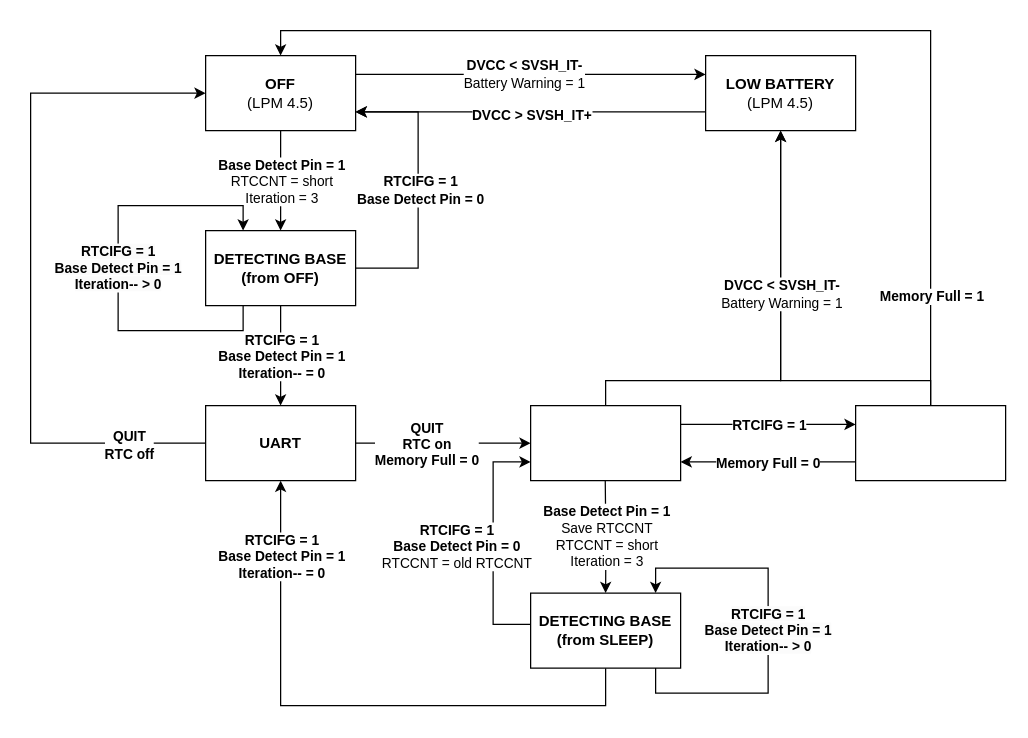
This 1028x738 diagram has some shape labels left out. The centre of each missing label's shape, as x and y in pixels:
"SENSING TEMPERATURE & CONDUCTIVITY" belongs at pixel 930 442.
"SLEEP (LPM 3.5 - RTC on)" belongs at pixel 605 442.
